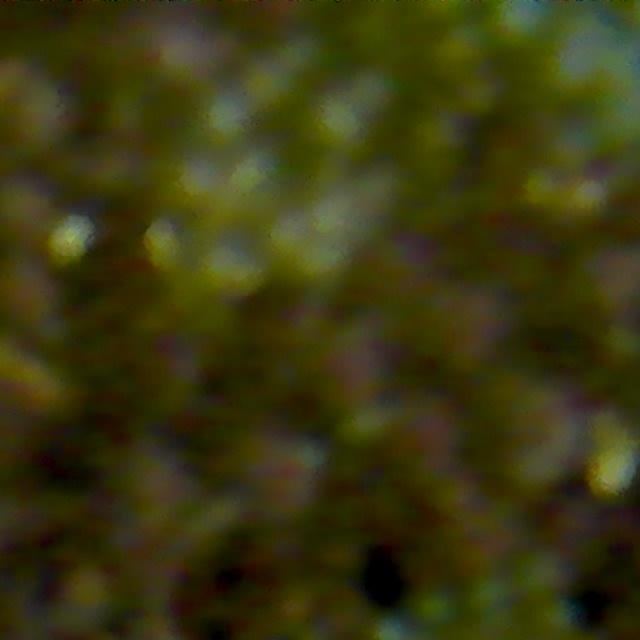SeaGrape: (9, 78, 80, 154), (304, 87, 373, 157), (408, 108, 474, 177), (196, 238, 267, 302), (193, 87, 254, 152), (103, 81, 160, 142), (487, 0, 555, 50), (0, 176, 54, 237), (347, 65, 403, 121), (515, 545, 572, 599), (431, 24, 486, 79), (142, 221, 190, 274), (455, 71, 506, 120), (410, 586, 462, 634), (467, 571, 513, 616), (529, 597, 576, 640), (416, 0, 474, 26)
